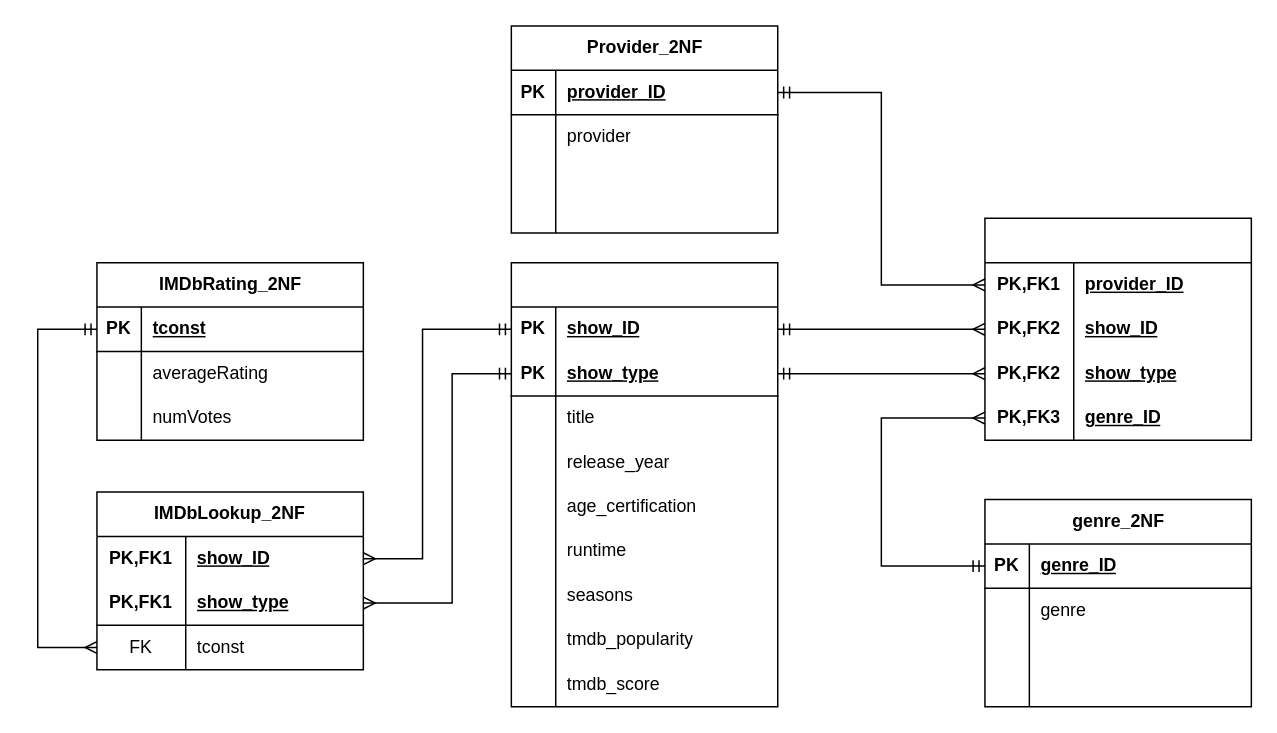
Some shapes in this 1277 by 733 pixel diagram are drawn without their labels. Here are the shapes that lost their labels. From the top down, the box of each, then its label:
(983, 217, 1251, 440): ProviderShow_2NF
(510, 261, 778, 707): show_2NF
